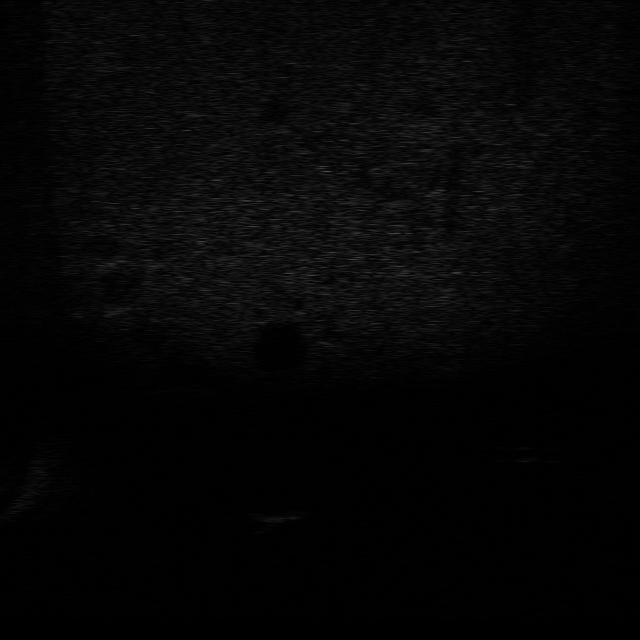ball: (242, 502, 312, 536)
square cage: (498, 438, 562, 468)
